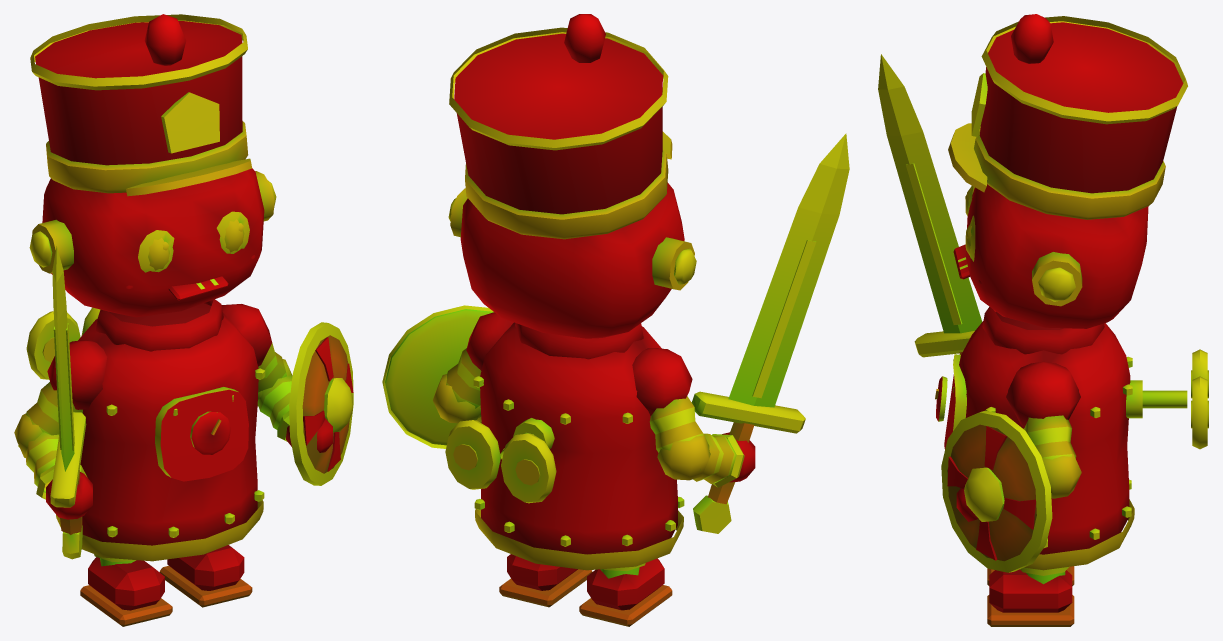
File: RobotTrooper.glb
The picture shows the model from 3 angles, left to right: view 1: azimuth 30°, elevation 25°; view 2: azimuth 150°, elevation 25°; view 3: azimuth 270°, elevation 25°; orthographic projection.
Parts seen in each view (by area): view 1: RobotTrooper; view 2: RobotTrooper; view 3: RobotTrooper.
Boxes of the visible parts, x1,y1,x2,y2 form: RobotTrooper: [14, 14, 353, 626]; RobotTrooper: [382, 14, 849, 626]; RobotTrooper: [878, 14, 1208, 626].
Size of the model in its own units: 0.6897 by 1.01 by 0.5181.
